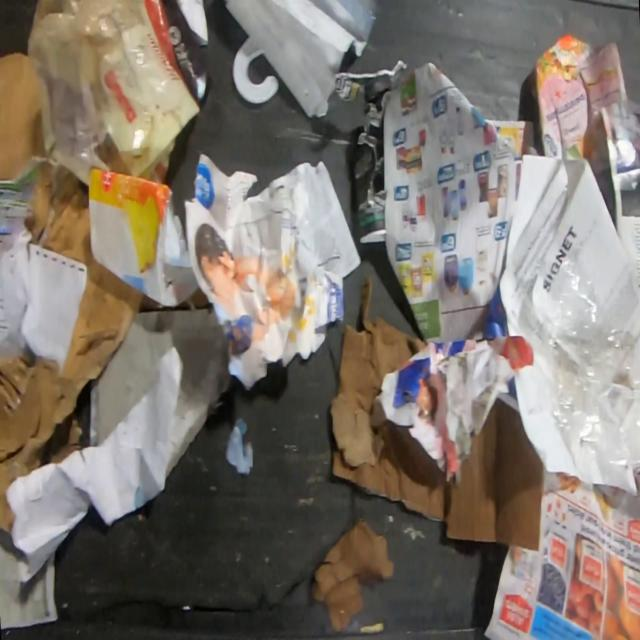cardboard: (0, 50, 146, 535), (328, 273, 446, 522), (446, 395, 544, 553), (530, 31, 629, 176), (309, 517, 396, 630)
rigid_plastic: (231, 36, 279, 103)
soft_plastic: (542, 256, 640, 498)
